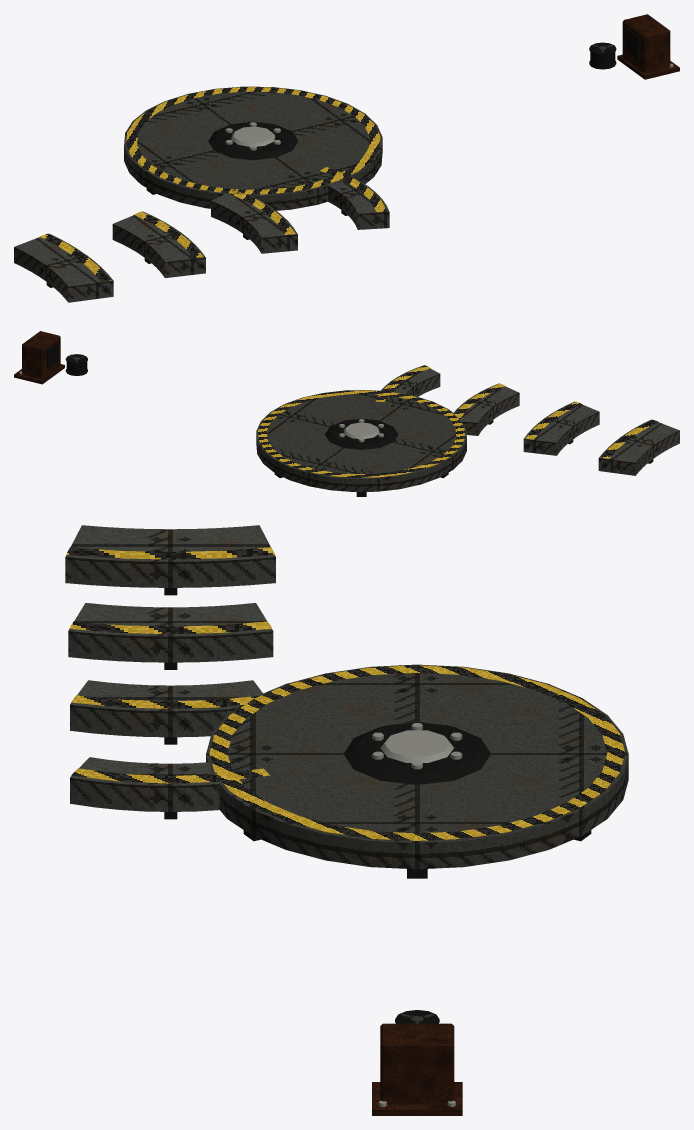
The model's file is spincycle.glb.
The picture shows the model from 3 angles, top to bottom: view 1: azimuth 30°, elevation 25°; view 2: azimuth 150°, elevation 25°; view 3: azimuth 270°, elevation 25°; orthographic projection. The views are drawn at different scales.
Parts seen in each view (by area): view 1: core, plate_0, plate_1, plate_2, arm_foot, plate_3, roller; view 2: core, plate_0, plate_1, plate_2, arm_foot, plate_3, roller; view 3: core, plate_0, plate_1, plate_2, plate_3, arm_foot.
Boxes of the visible parts, bbox=[...] form: core: bbox=[124, 86, 382, 210]; plate_0: bbox=[14, 233, 113, 302]; plate_1: bbox=[112, 211, 205, 277]; plate_2: bbox=[211, 189, 297, 253]; arm_foot: bbox=[617, 14, 679, 79]; plate_3: bbox=[320, 167, 389, 229]; roller: bbox=[589, 42, 616, 69]; core: bbox=[256, 390, 466, 496]; plate_0: bbox=[598, 419, 679, 475]; plate_1: bbox=[523, 401, 599, 455]; plate_2: bbox=[454, 383, 519, 435]; arm_foot: bbox=[14, 331, 64, 384]; plate_3: bbox=[375, 365, 440, 401]; roller: bbox=[65, 354, 87, 375]; core: bbox=[206, 664, 628, 878]; plate_0: bbox=[65, 525, 275, 595]; plate_1: bbox=[68, 603, 273, 669]; plate_2: bbox=[70, 680, 264, 744]; plate_3: bbox=[70, 757, 269, 819]; arm_foot: bbox=[372, 1023, 462, 1115].
Bounding box in the file's own units: 16.04 × 1.02 × 6.85.
Materials: 8 (7 with a texture image).
